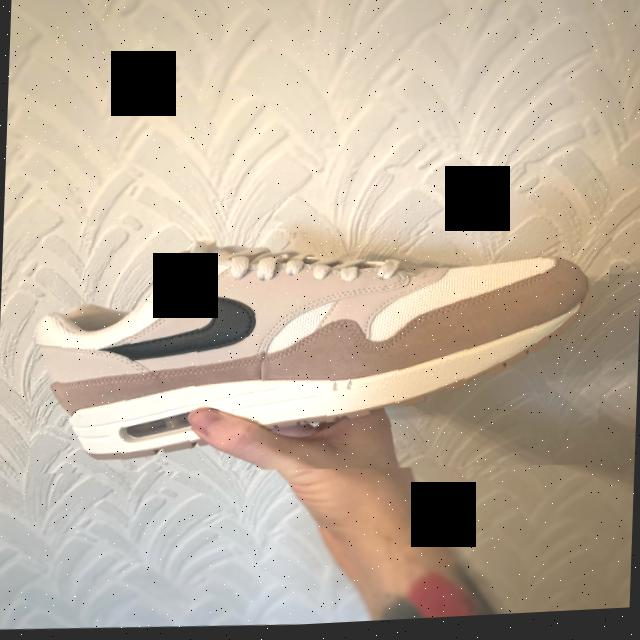shoe: (29, 213, 612, 494)
